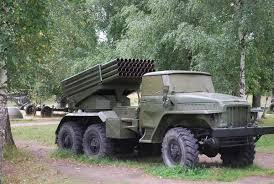MIL_SAM_TEL: (48, 59, 262, 171)
